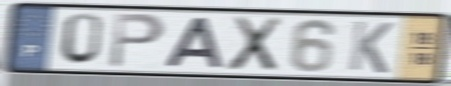0: (56, 12, 104, 68)
6: (288, 17, 337, 74)
A: (161, 15, 227, 70)
K: (346, 19, 396, 76)
P: (107, 12, 168, 71)
X: (225, 15, 285, 74)
